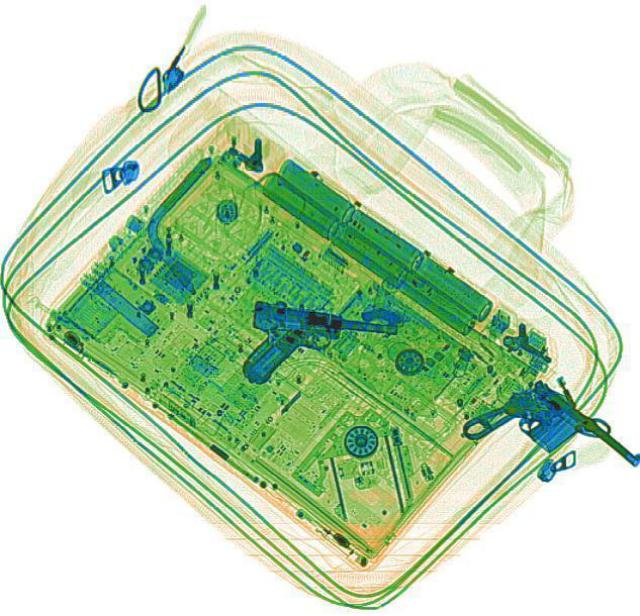Gun: (452, 362, 638, 521), (236, 296, 398, 396)
